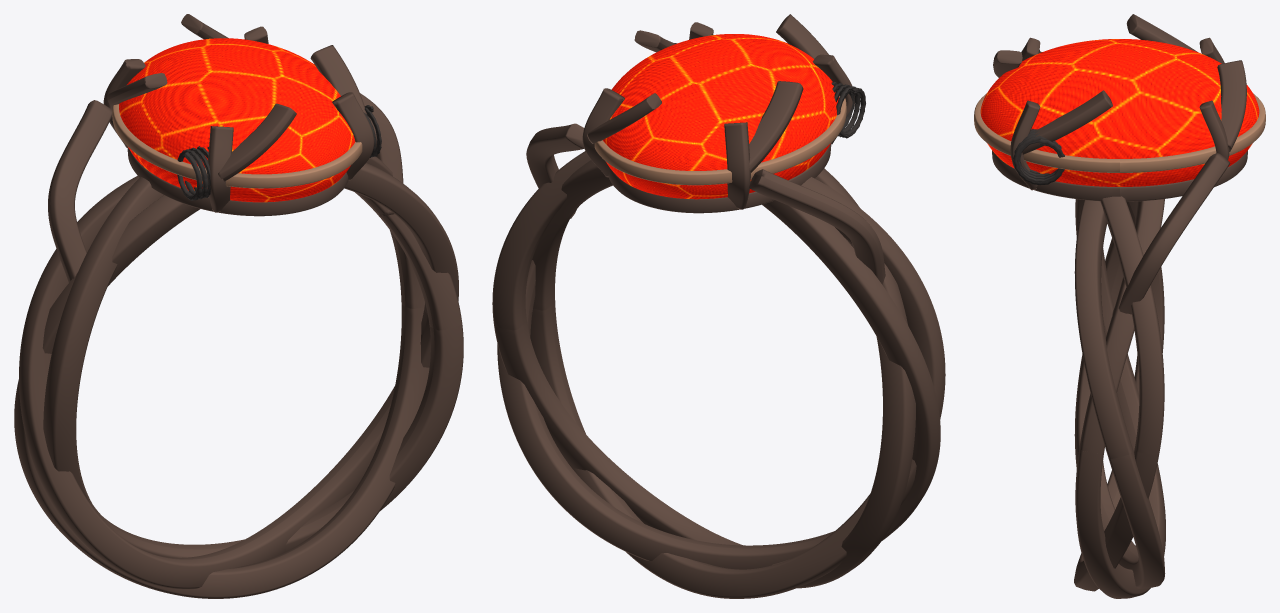
Rendered from emberweave_ring.glb.
3 renders of one model, left to right at view 1: azimuth 30°, elevation 25°; view 2: azimuth 150°, elevation 25°; view 3: azimuth 270°, elevation 25°, orthographic.
Parts seen in each view (by area): view 1: Oxidised warm dark bronze, Cracked amber fire opal, Burnished copper edges, Blackened braided binding cord; view 2: Oxidised warm dark bronze, Cracked amber fire opal, Burnished copper edges, Blackened braided binding cord; view 3: Oxidised warm dark bronze, Cracked amber fire opal, Burnished copper edges, Blackened braided binding cord.
Boxes of the visible parts, <box> form: Oxidised warm dark bronze: <box>14,14,463,598</box>; Cracked amber fire opal: <box>119,38,355,202</box>; Burnished copper edges: <box>112,104,362,188</box>; Blackened braided binding cord: <box>177,105,381,200</box>; Oxidised warm dark bronze: <box>492,14,945,598</box>; Cracked amber fire opal: <box>603,34,839,199</box>; Burnished copper edges: <box>594,96,846,185</box>; Blackened braided binding cord: <box>674,43,865,138</box>; Oxidised warm dark bronze: <box>992,14,1247,598</box>; Cracked amber fire opal: <box>980,39,1259,186</box>; Burnished copper edges: <box>974,93,1265,172</box>; Blackened braided binding cord: <box>1013,49,1064,185</box>.
Size of the model in its own units: 0.0245 by 0.0286 by 0.0146.
Materials: 4 (1 with a texture image).
